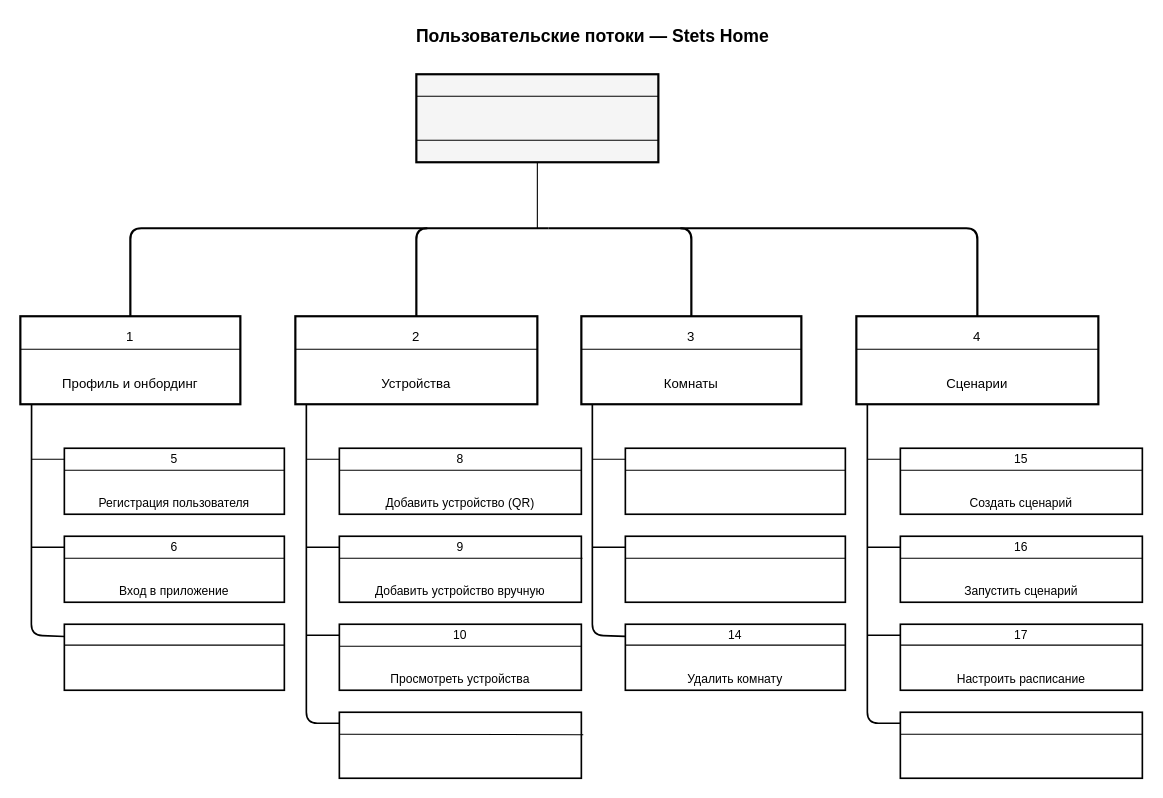
The diagram is 1163 pixels wide and 798 high, and some of its shapes have lost their labels. Each missing label, with the centre of its shape:
"0 Главный экран навигации 1,2,3,4" belongs at point (537, 118).
"11 Управлять устройством" belongs at point (460, 745).
"12 Создать комнату" belongs at point (735, 481).
"13 Редактировать комнату" belongs at point (735, 569).
"18 Удалить сценарий" belongs at point (1021, 745).
"7 Восстановление пароля" belongs at point (174, 657).
